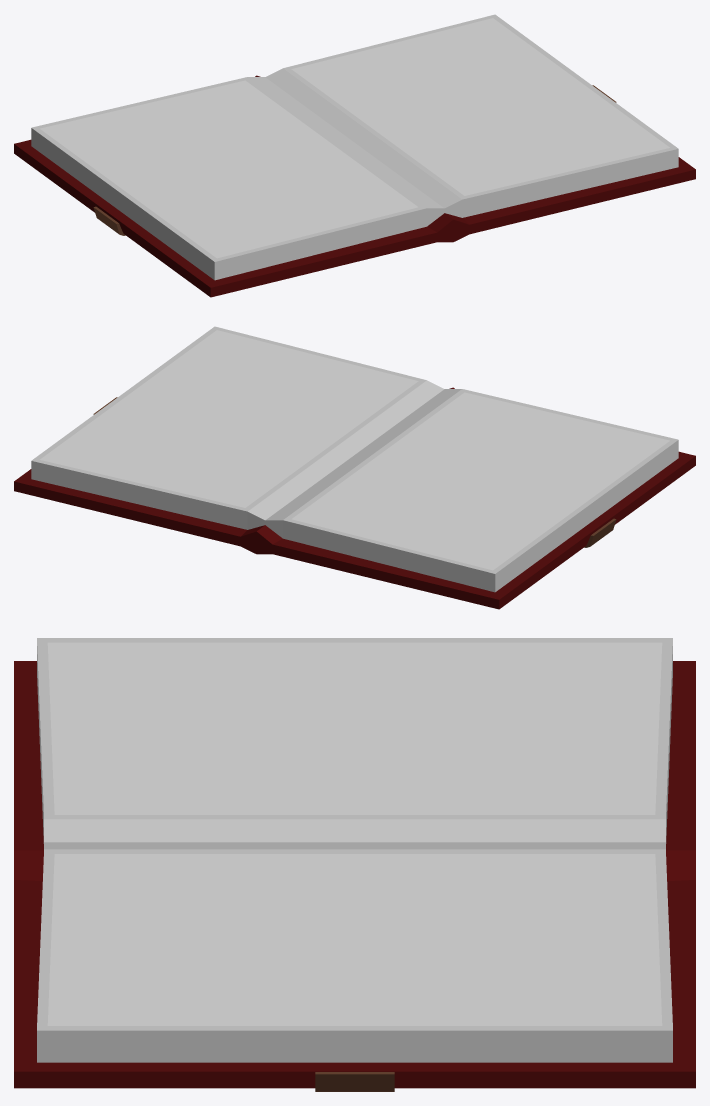
The model's file is AgendaOpenV1Red.fbx.
3 renders of one model, top to bottom at view 1: azimuth 30°, elevation 25°; view 2: azimuth 150°, elevation 25°; view 3: azimuth 270°, elevation 25°, orthographic. The views are drawn at different scales.
Parts seen in each view (by area): view 1: AgendaOpenV1Red; view 2: AgendaOpenV1Red; view 3: AgendaOpenV1Red.
Boxes of the visible parts, x1,y1,x2,y2 form: AgendaOpenV1Red: (14, 14, 695, 297); AgendaOpenV1Red: (14, 326, 695, 609); AgendaOpenV1Red: (14, 638, 695, 1091).
Bounding box in the file's own units: 27.65 × 1.75 × 18.84.
